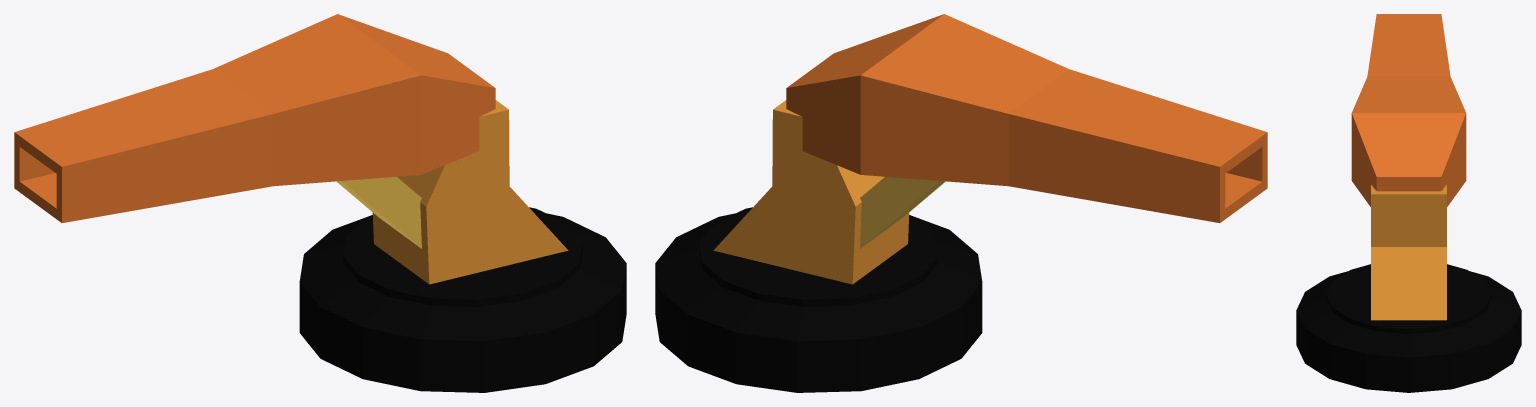
Rendered from turret.glb.
3 renders of one model, left to right at view 1: azimuth 30°, elevation 25°; view 2: azimuth 150°, elevation 25°; view 3: azimuth 270°, elevation 25°, orthographic. The views are drawn at different scales.
Visible parts, largest first — view 1: gun, base, body, body2; view 2: gun, base, body, body2; view 3: base, gun, body.
Part boxes in pixels (x1,y1,x2,y2): gun: [14, 14, 495, 222]; base: [299, 207, 626, 392]; body: [372, 100, 568, 284]; body2: [336, 176, 421, 248]; gun: [786, 14, 1267, 222]; base: [655, 207, 982, 392]; body: [713, 100, 909, 284]; body2: [860, 176, 945, 248]; base: [1296, 264, 1521, 392]; gun: [1351, 14, 1466, 206]; body: [1371, 185, 1446, 320].
Bounding box in the file's own units: 3.98 × 2.01 × 2.
